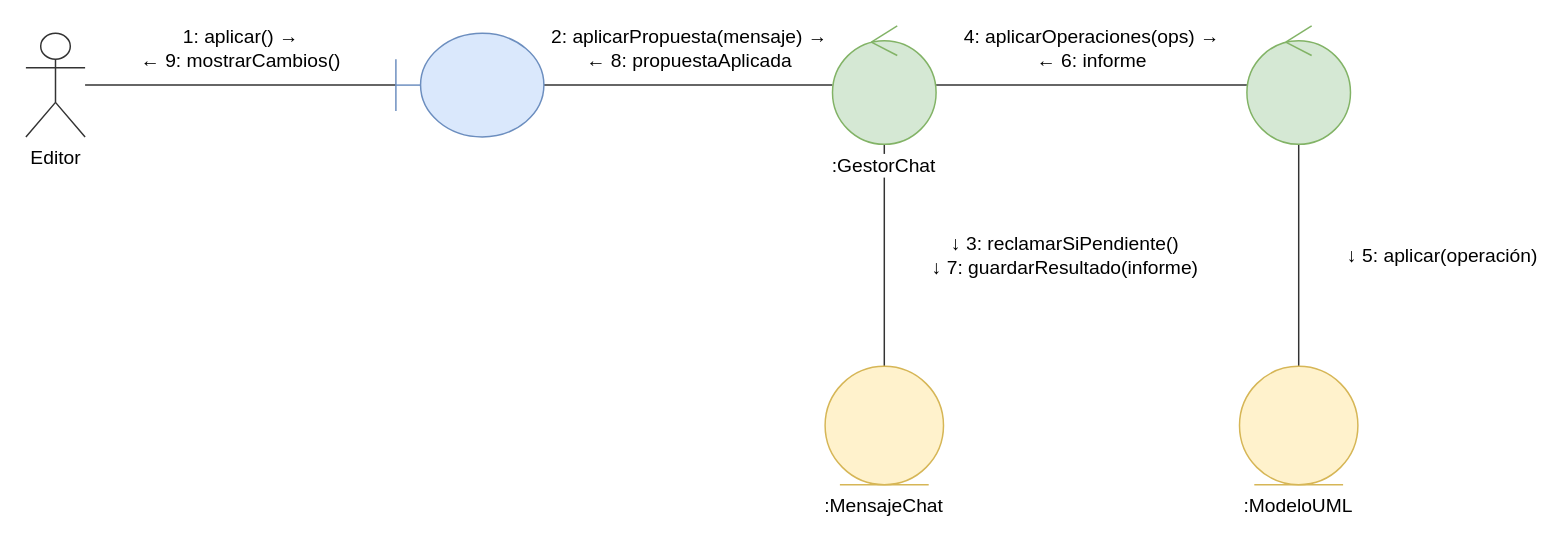
Image size: 1563x545. Some labels were removed from this diagram. Each missing label, with the box of its shape:
:GestorColaboración: (1245, 24, 1350, 144)
:TarjetaPropuesta: (394, 32, 544, 137)
